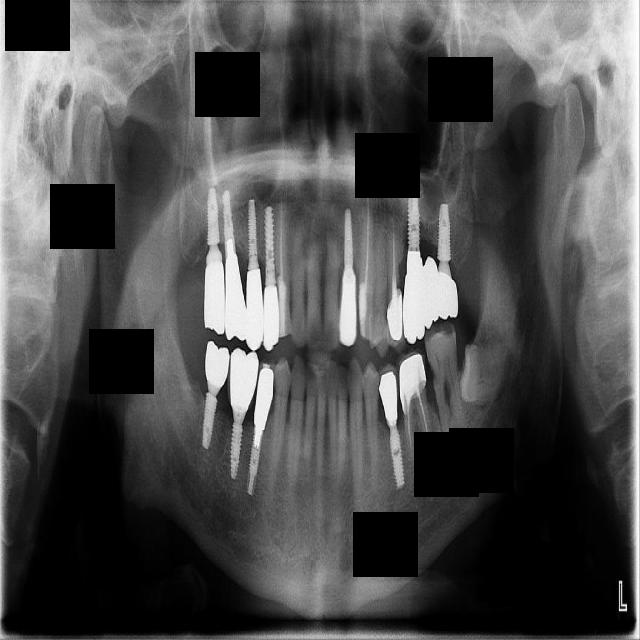52: (401, 250, 460, 347), (223, 347, 261, 416), (393, 348, 432, 415), (250, 359, 279, 431), (224, 251, 247, 341), (203, 259, 225, 335), (245, 267, 264, 352), (337, 268, 357, 346), (205, 340, 230, 396), (377, 363, 399, 426), (261, 284, 280, 350), (273, 273, 292, 337), (386, 291, 405, 353), (358, 279, 375, 340)
73: (399, 381, 437, 470), (359, 192, 378, 288), (274, 200, 290, 281), (387, 216, 400, 299), (597, 588, 611, 588)
Biomet 3i Implant: (458, 338, 505, 406)
Blue Sky Bio Implant: (423, 324, 468, 447)
